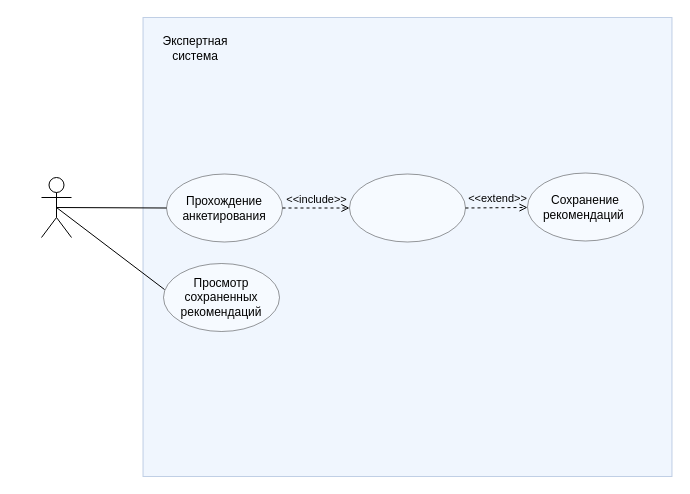
Some shapes in this 690 by 494 pixel diagram are drawn without their labels. Here are the shapes that lost their labels. From the top down, the box of each, then its label:
(40, 176, 72, 238): Пользователь
(348, 173, 466, 242): Просмотр рекомендаций
